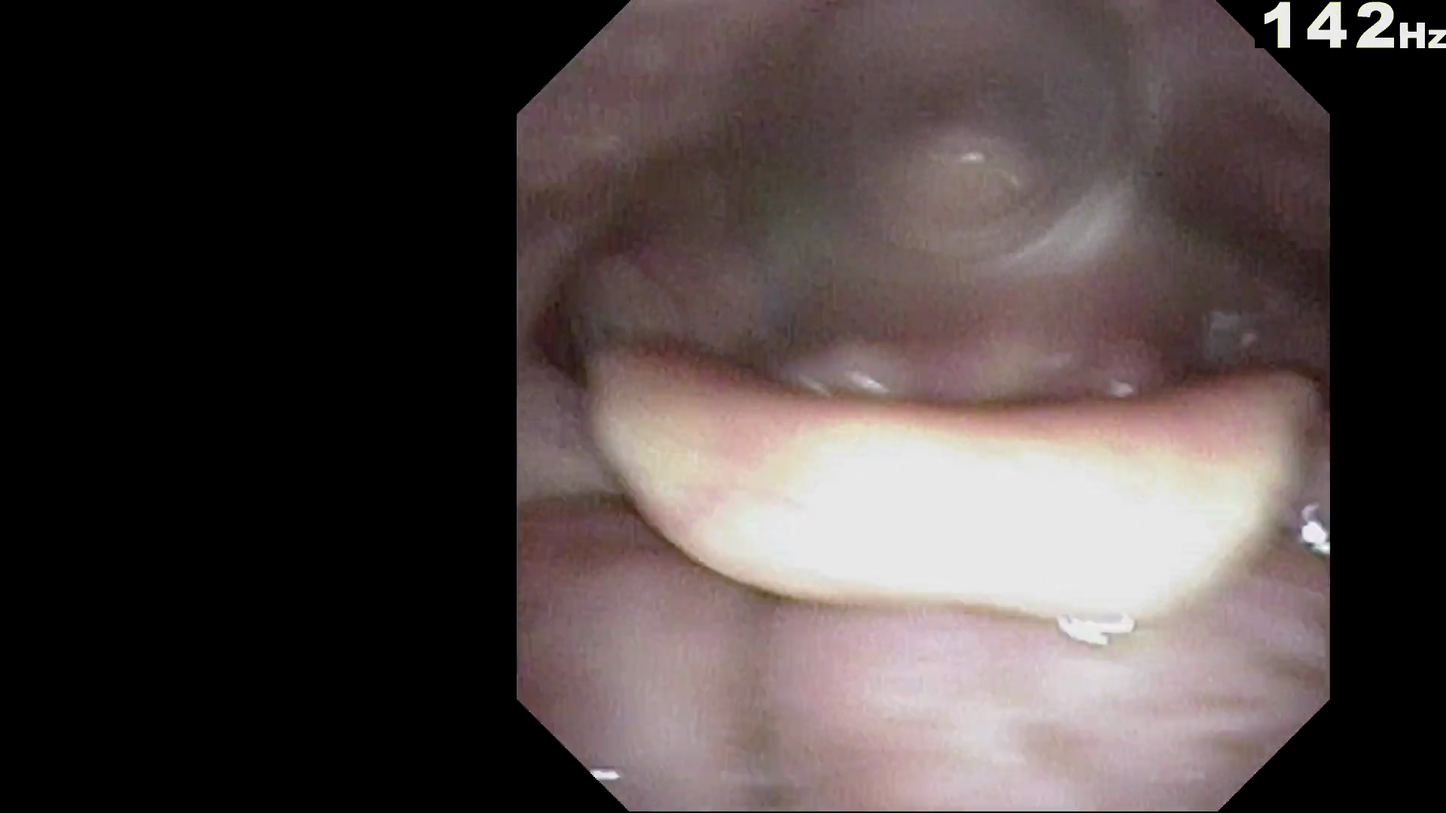epiglottis: (603, 355, 1218, 580)
